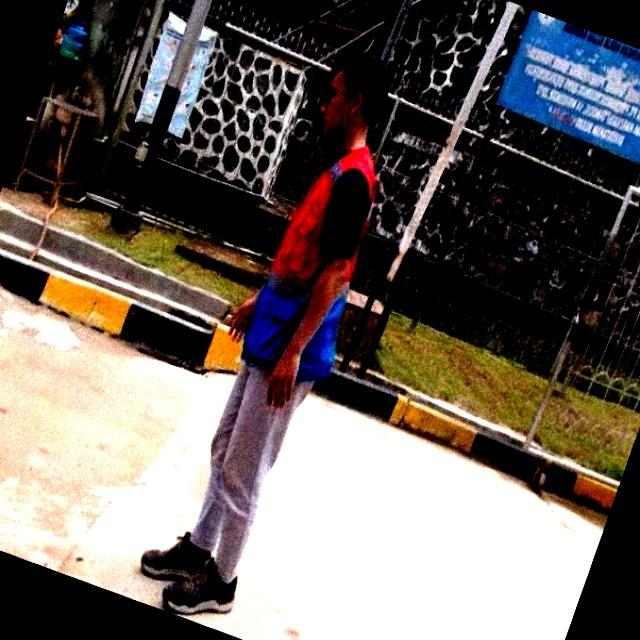safety_vest: (240, 141, 393, 384)
